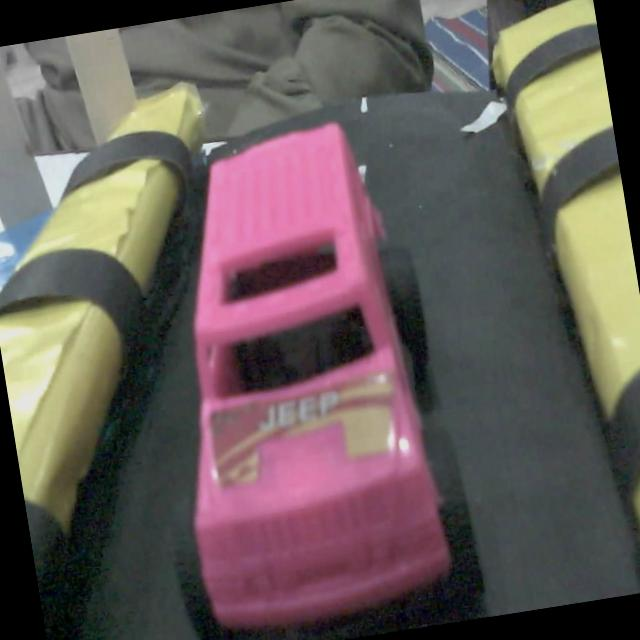OneCar: (176, 124, 451, 640)
